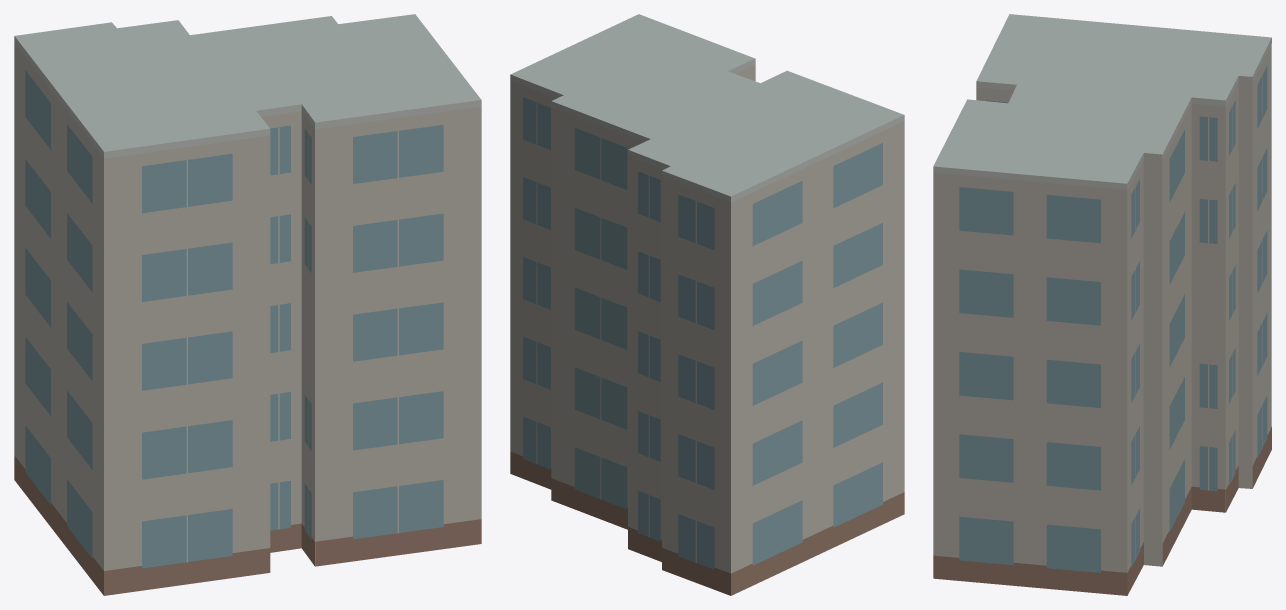
Rendered from survey-upis-32936779.glb.
The picture shows the model from 3 angles, left to right: view 1: azimuth 30°, elevation 25°; view 2: azimuth 150°, elevation 25°; view 3: azimuth 270°, elevation 25°; orthographic projection. The views are drawn at different scales.
Parts seen in each view (by area): view 1: survey-upis-32936779.tmp; view 2: survey-upis-32936779.tmp; view 3: survey-upis-32936779.tmp.
Boxes of the visible parts, x1,y1,x2,y2 form: survey-upis-32936779.tmp: [14, 14, 481, 595]; survey-upis-32936779.tmp: [510, 14, 904, 595]; survey-upis-32936779.tmp: [933, 14, 1271, 595].
Size of the model in its own units: 14.41 by 16.3 by 12.15.
